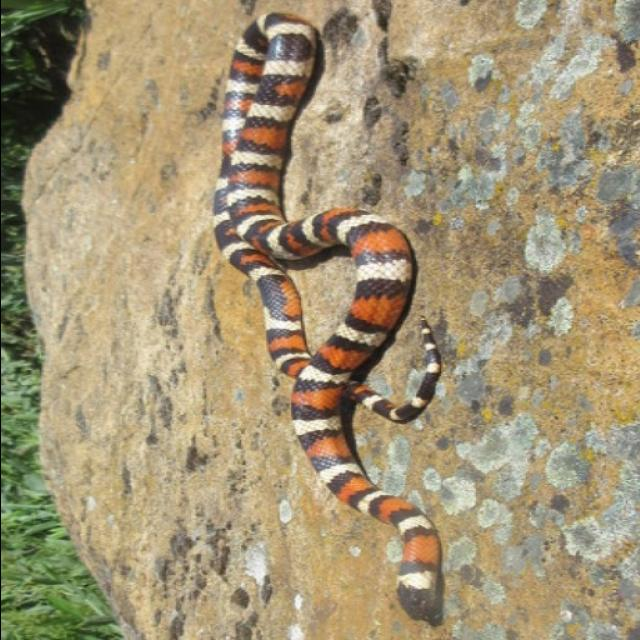snake: (190, 15, 468, 638)
